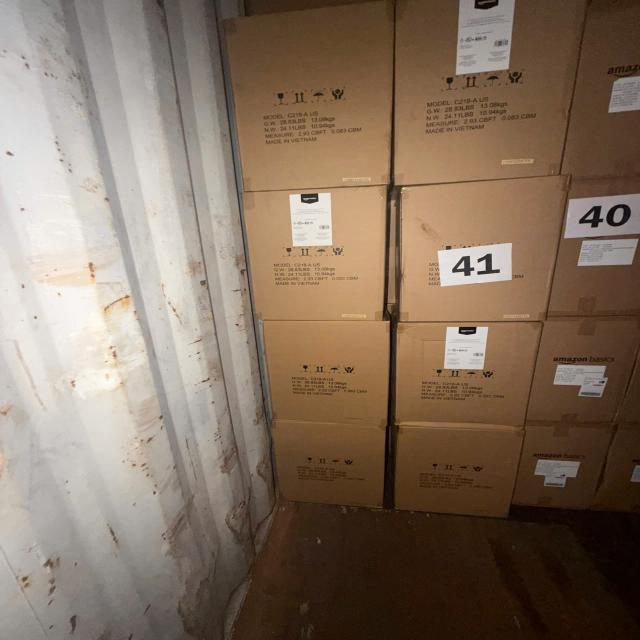Carton: (394, 0, 579, 189), (226, 9, 392, 194), (397, 178, 563, 328), (238, 189, 386, 325), (390, 321, 536, 426), (559, 1, 637, 182), (262, 320, 386, 429), (391, 420, 520, 520), (551, 174, 637, 320), (526, 318, 638, 429), (268, 418, 384, 508), (515, 420, 613, 510), (605, 421, 640, 512)
